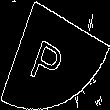P_NE: (34, 24, 76, 86)
